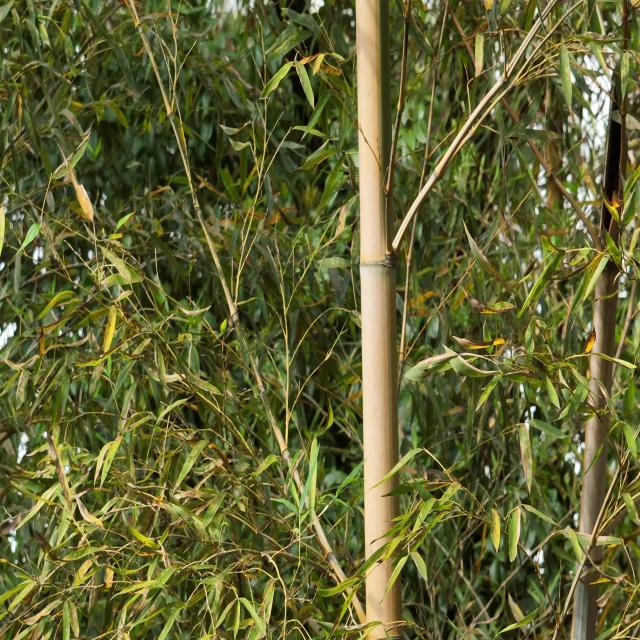Bamboo-shoots: (356, 0, 404, 640)
